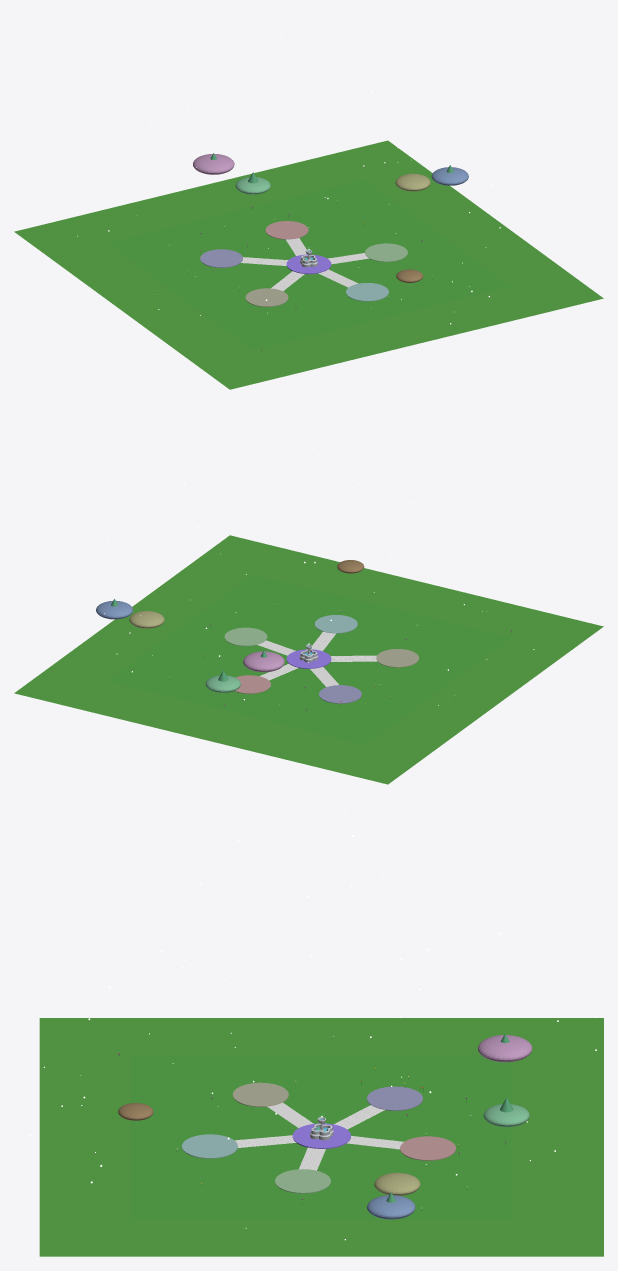
Rendered from astral_queen_v4.glb.
3 views of the same model, one above another, from view 1: azimuth 30°, elevation 25°; view 2: azimuth 150°, elevation 25°; view 3: azimuth 270°, elevation 25° (orthographic). The views are drawn at different scales.
Parts seen in each view (by area): view 1: GrassPlane, GrassPlane.001, FloatingIsland_4, IslandPlatform_4, IslandPlatform_5, IslandPlatform_1, IslandPlatform_2, IslandPlatform_3, CentralPlatform, FloatingIsland_3, FloatingIsland_2; view 2: GrassPlane, GrassPlane.001, FloatingIsland_4, IslandPlatform_1, IslandPlatform_4, IslandPlatform_3, IslandPlatform_5, CentralPlatform, FloatingIsland_3, IslandPlatform_2, FloatingIsland_2; view 3: GrassPlane, GrassPlane.001, FloatingIsland_4, IslandPlatform_1, IslandPlatform_2, IslandPlatform_5, IslandPlatform_3, IslandPlatform_4, CentralPlatform, FloatingIsland_3, FloatingIsland_2, FloatingIsland_0.
Part boxes in pixels (box(x1,y1,x2,y2)): GrassPlane: box(14, 140, 603, 389); GrassPlane.001: box(107, 180, 510, 349); FloatingIsland_4: box(193, 154, 234, 174); IslandPlatform_4: box(245, 288, 288, 306); IslandPlatform_5: box(346, 283, 388, 301); IslandPlatform_1: box(365, 243, 407, 261); IslandPlatform_2: box(265, 221, 308, 239); IslandPlatform_3: box(200, 249, 242, 267); CentralPlatform: box(286, 254, 331, 274); FloatingIsland_3: box(431, 167, 468, 185); FloatingIsland_2: box(395, 173, 430, 191); GrassPlane: box(14, 535, 603, 784); GrassPlane.001: box(107, 575, 510, 744); FloatingIsland_4: box(243, 651, 284, 672); IslandPlatform_1: box(224, 627, 267, 646); IslandPlatform_4: box(376, 649, 419, 667); IslandPlatform_3: box(319, 685, 361, 703); IslandPlatform_5: box(314, 615, 357, 633); CentralPlatform: box(286, 649, 331, 668); FloatingIsland_3: box(96, 600, 133, 619); IslandPlatform_2: box(234, 675, 270, 693); FloatingIsland_2: box(129, 611, 164, 628); GrassPlane: box(39, 1018, 603, 1256); GrassPlane.001: box(131, 1054, 512, 1219); FloatingIsland_4: box(478, 1035, 532, 1062); IslandPlatform_1: box(275, 1169, 330, 1193); IslandPlatform_2: box(400, 1136, 456, 1160); IslandPlatform_5: box(181, 1134, 237, 1158); IslandPlatform_3: box(367, 1086, 422, 1110); IslandPlatform_4: box(232, 1082, 288, 1106); CentralPlatform: box(292, 1123, 350, 1148); FloatingIsland_3: box(367, 1195, 415, 1219); FloatingIsland_2: box(374, 1172, 420, 1195); FloatingIsland_0: box(483, 1104, 529, 1126).
Size of what is drawn, in the model's own units: 101 by 59.82 by 105.
Materials: 347 (2 with a texture image).
